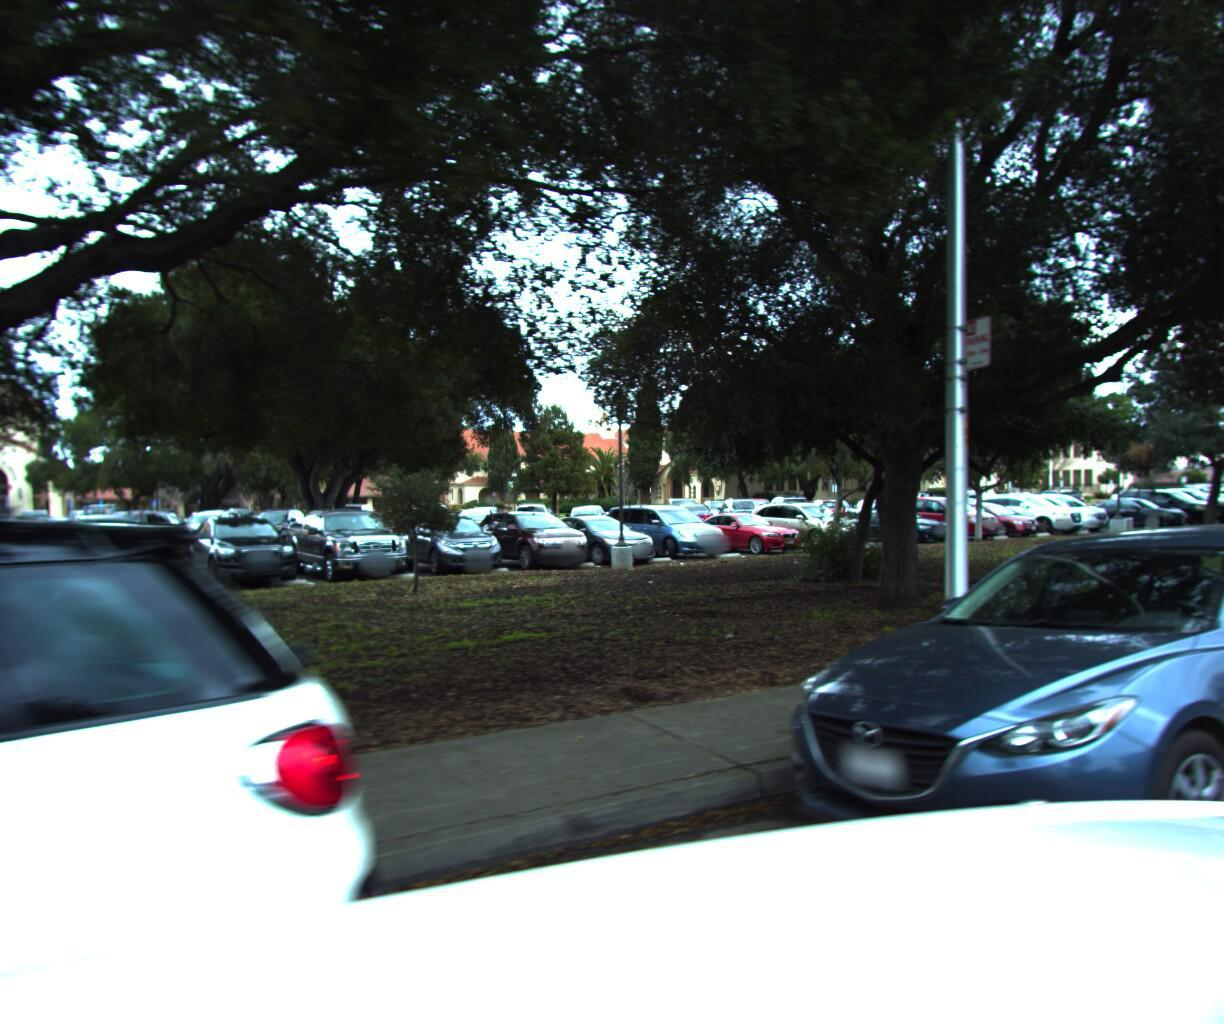car: (723, 507, 1224, 971)
